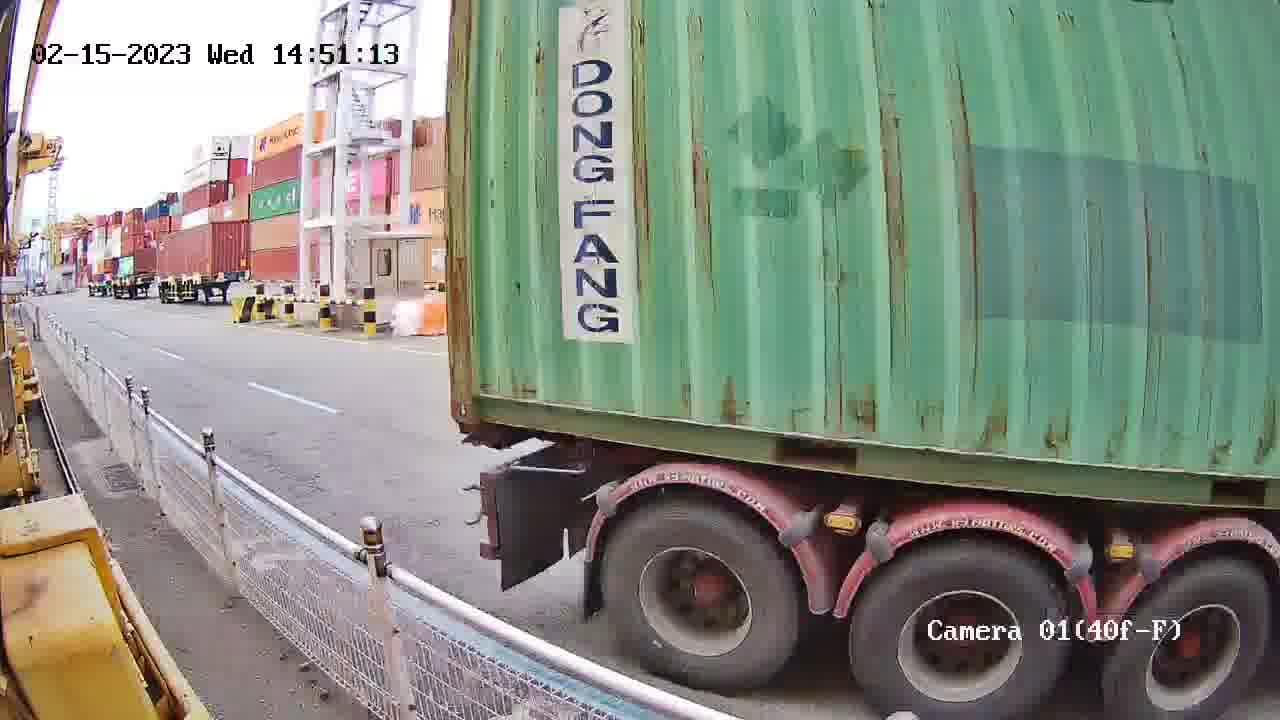Hole_L: (448, 365, 511, 424)
Tire: (851, 548, 1065, 719), (606, 506, 794, 691), (1114, 566, 1272, 719)
